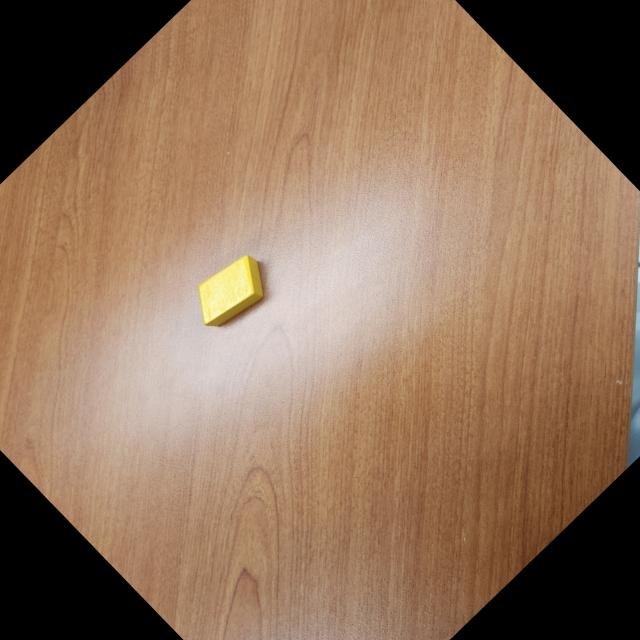yellow: (182, 242, 280, 340)
